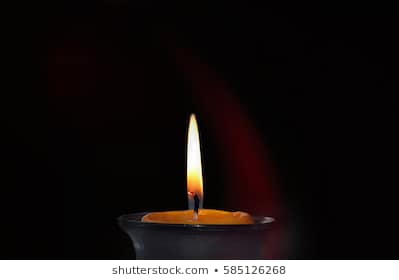Fire: (183, 115, 208, 208)
